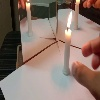fire: (67, 11, 72, 33)
